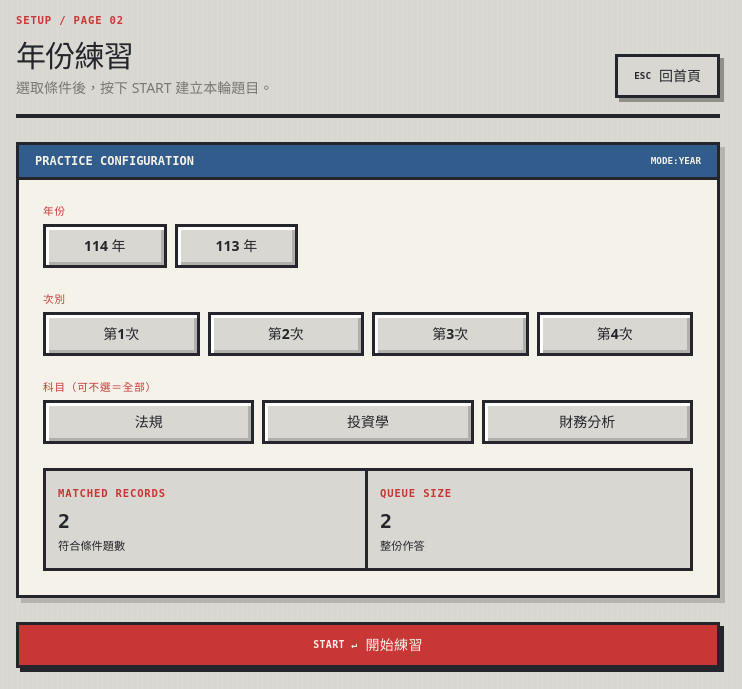
Test case: PracticeSetup › offers year, round, and optional subject filters with pressed state
Expected: the text "年份" is shown, [43, 204, 66, 220]
Expected: the text "次別" is shown, [43, 292, 66, 308]
Click the button "114 年": (105, 246) [43, 224, 167, 268]
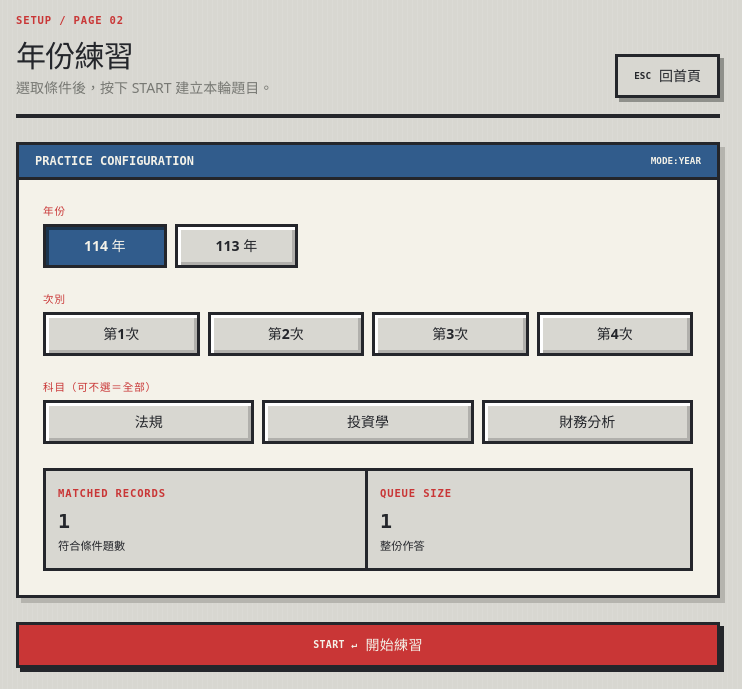
Now the text named "符合條件題數" reads "1", box [58, 508, 70, 532]
